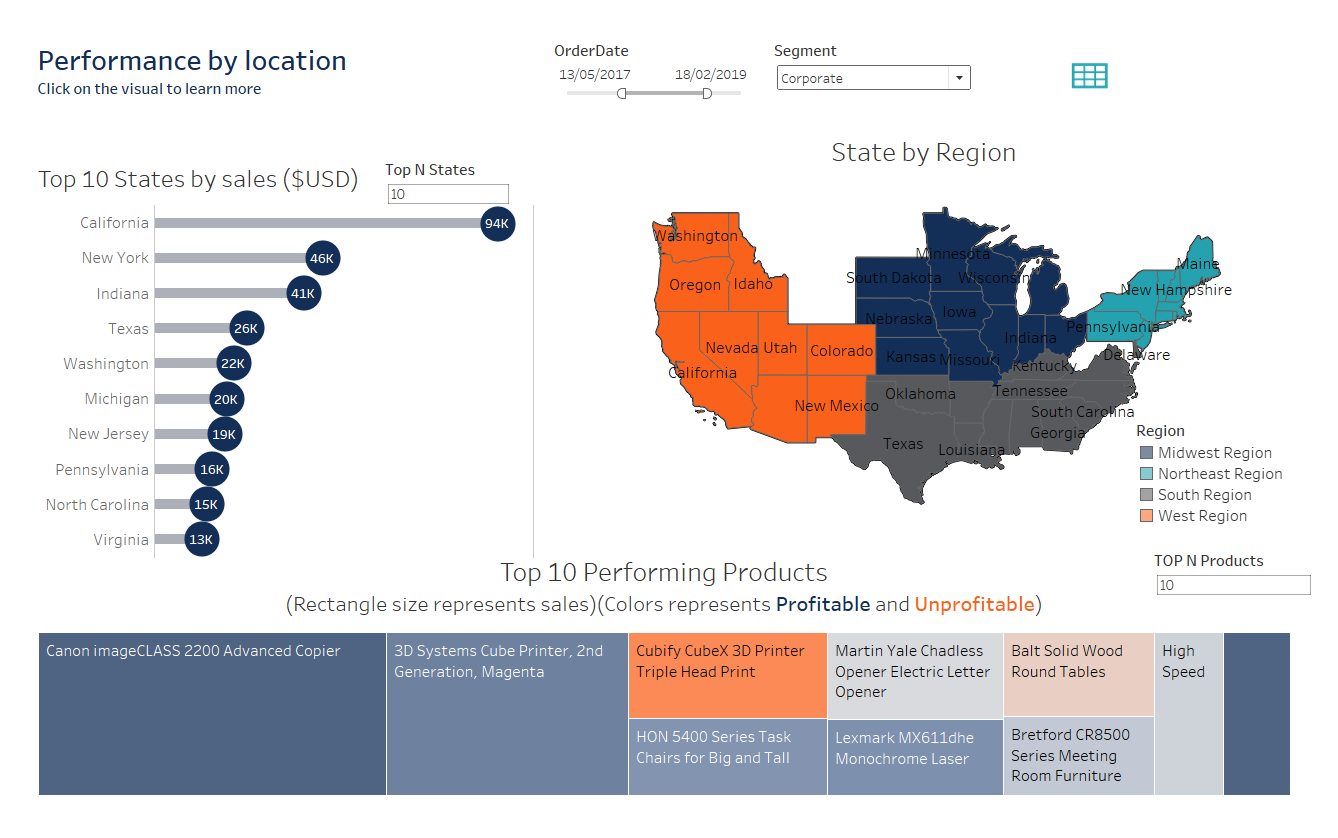

What the dashboard file says about the page in this screenshot:
{"tool":"tableau","page":{"name":"Performance by location Dashboard","canvas":[1300,800],"ordinal":0},"visuals":[{"type":"text","box":[20,20,500,60]},{"type":"filter","title":"SalesByState_LOL","param":"[federated.12y03hx0rq7voi18qg58o0swesog].[none:OrderDate:qk]","box":[540,20,200,60]},{"type":"filter","title":"SalesByState_LOL","param":"[federated.12y03hx0rq7voi18qg58o0swesog].[none:Segment:nk]","box":[760,20,200,60]},{"type":"dashboard-object","box":[1023,34,104,43]},{"type":"worksheet","title":"SalesByState","mark":"Automatic","rows":["State"],"cols":["OrderDate"],"box":[541,107,737,403]},{"type":"worksheet","title":"Sales_Map","mark":"Multipolygon","box":[540,110,740,400]},{"type":"worksheet","title":"SalesByState_LOL","mark":"Automatic","rows":["State"],"cols":["Sales","Sales"],"box":[20,138,500,400]},{"type":"parameter","param":"[Parameters].[Parameter 3]","box":[371,139,127,48]},{"type":"legend","title":"Sales_Map","param":"[federated.12y03hx0rq7voi18qg58o0swesog].[none:Region:nk]","box":[1122,400,152,106]},{"type":"worksheet","title":"TopProducts_Tree","mark":"Square","box":[20,530,1260,250]},{"type":"parameter","param":"[Parameters].[Parameter 4]","box":[1140,530,160,48]}]}

Visuals, with their boxes in screenshot pixels (x1, y1, x2, y2), scaled from the page's 1300x800 canvas onto the 1338x838 screenshot:
text: select_region(21, 21, 535, 84)
"SalesByState_LOL" filter: select_region(556, 21, 762, 84)
"SalesByState_LOL" filter: select_region(782, 21, 988, 84)
dashboard-object: select_region(1053, 36, 1160, 81)
"SalesByState" worksheet: select_region(557, 112, 1315, 534)
"Sales_Map" worksheet (Multipolygon marks): select_region(556, 115, 1317, 534)
"SalesByState_LOL" worksheet: select_region(21, 145, 535, 564)
parameter: select_region(382, 146, 513, 196)
"Sales_Map" legend: select_region(1155, 419, 1311, 530)
"TopProducts_Tree" worksheet (Square marks): select_region(21, 555, 1317, 817)
parameter: select_region(1173, 555, 1337, 605)
